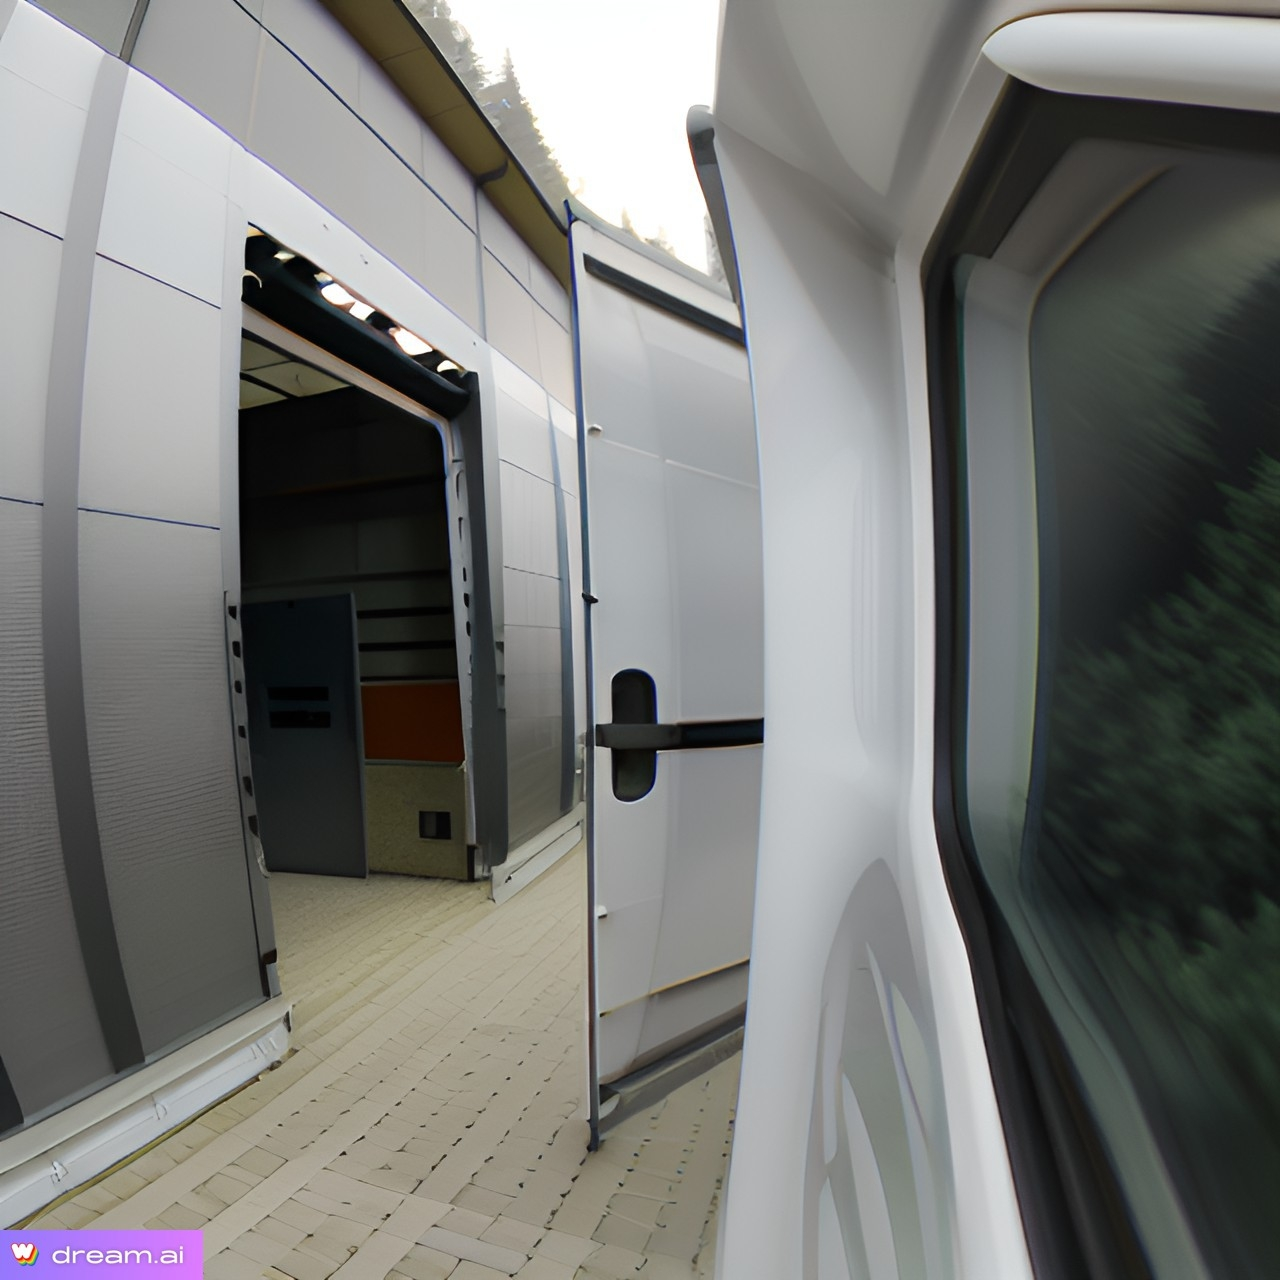door_front: (540, 197, 797, 1167)
